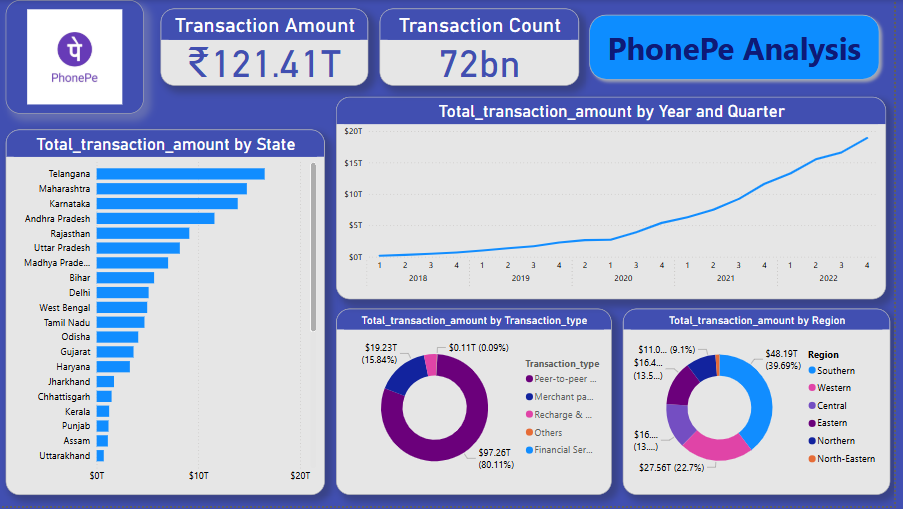

The page's visual inventory and layout, read from the dashboard file:
{"tool":"powerbi","page":{"name":"PhonePe Analysis","canvas":[1280,720],"ordinal":0},"visuals":[{"type":"clusteredBarChart","title":"Total_transaction_amount by State","fields":{"Category":["agg_trans.State"],"Y":["agg_trans.total_transaction_amount"]},"box":[13.5,183.8,454.6,520.4],"z":0},{"type":"donutChart","title":"Total_transaction_amount by Transaction_type","fields":{"Category":["agg_trans.Transaction_type"],"Y":["agg_trans.total_transaction_amount"]},"box":[483.7,439.2,392.7,265],"z":1000},{"type":"textbox","box":[653.1,234.4,39.6,13.8],"z":2000},{"type":"lineChart","title":"Total_transaction_amount by Year and Quarter","fields":{"Category":["agg_trans.Year","agg_trans.Quarter"],"Y":["agg_trans.total_transaction_amount"]},"box":[483.7,137.4,783.5,288.3],"z":3000},{"type":"donutChart","title":"Total_transaction_amount by Region","fields":{"Y":["agg_trans.total_transaction_amount"],"Category":["agg_trans.Region"]},"box":[891.9,439.2,381.1,265],"z":4000},{"type":"card","title":"Transaction Amount","fields":{"Values":["Sum(agg_trans.Transaction_amount)"]},"box":[234.1,11.6,296,110.3],"z":5000},{"type":"card","title":"Transaction Count","fields":{"Values":["Sum(agg_trans.Transaction_count)"]},"box":[545.6,11.6,284.4,110.3],"z":6000},{"type":"shape","box":[835.8,11.6,431.4,110.3],"z":7000},{"type":"image","box":[13.5,0,197,162],"z":8000}]}

Visuals, with their boxes in screenshot pixels (x1, y1, x2, y2), scaled from the page's 1280x720 canvas onto the 903x509 screenshot:
"Total_transaction_amount by State" clusteredBarChart: [left=10, top=130, right=330, bottom=498]
"Total_transaction_amount by Transaction_type" donutChart: [left=341, top=310, right=618, bottom=498]
textbox: [left=461, top=166, right=489, bottom=175]
"Total_transaction_amount by Year and Quarter" lineChart: [left=341, top=97, right=894, bottom=301]
"Total_transaction_amount by Region" donutChart: [left=629, top=310, right=898, bottom=498]
"Transaction Amount" card: [left=165, top=8, right=374, bottom=86]
"Transaction Count" card: [left=385, top=8, right=586, bottom=86]
shape: [left=590, top=8, right=894, bottom=86]
image: [left=10, top=0, right=149, bottom=115]
